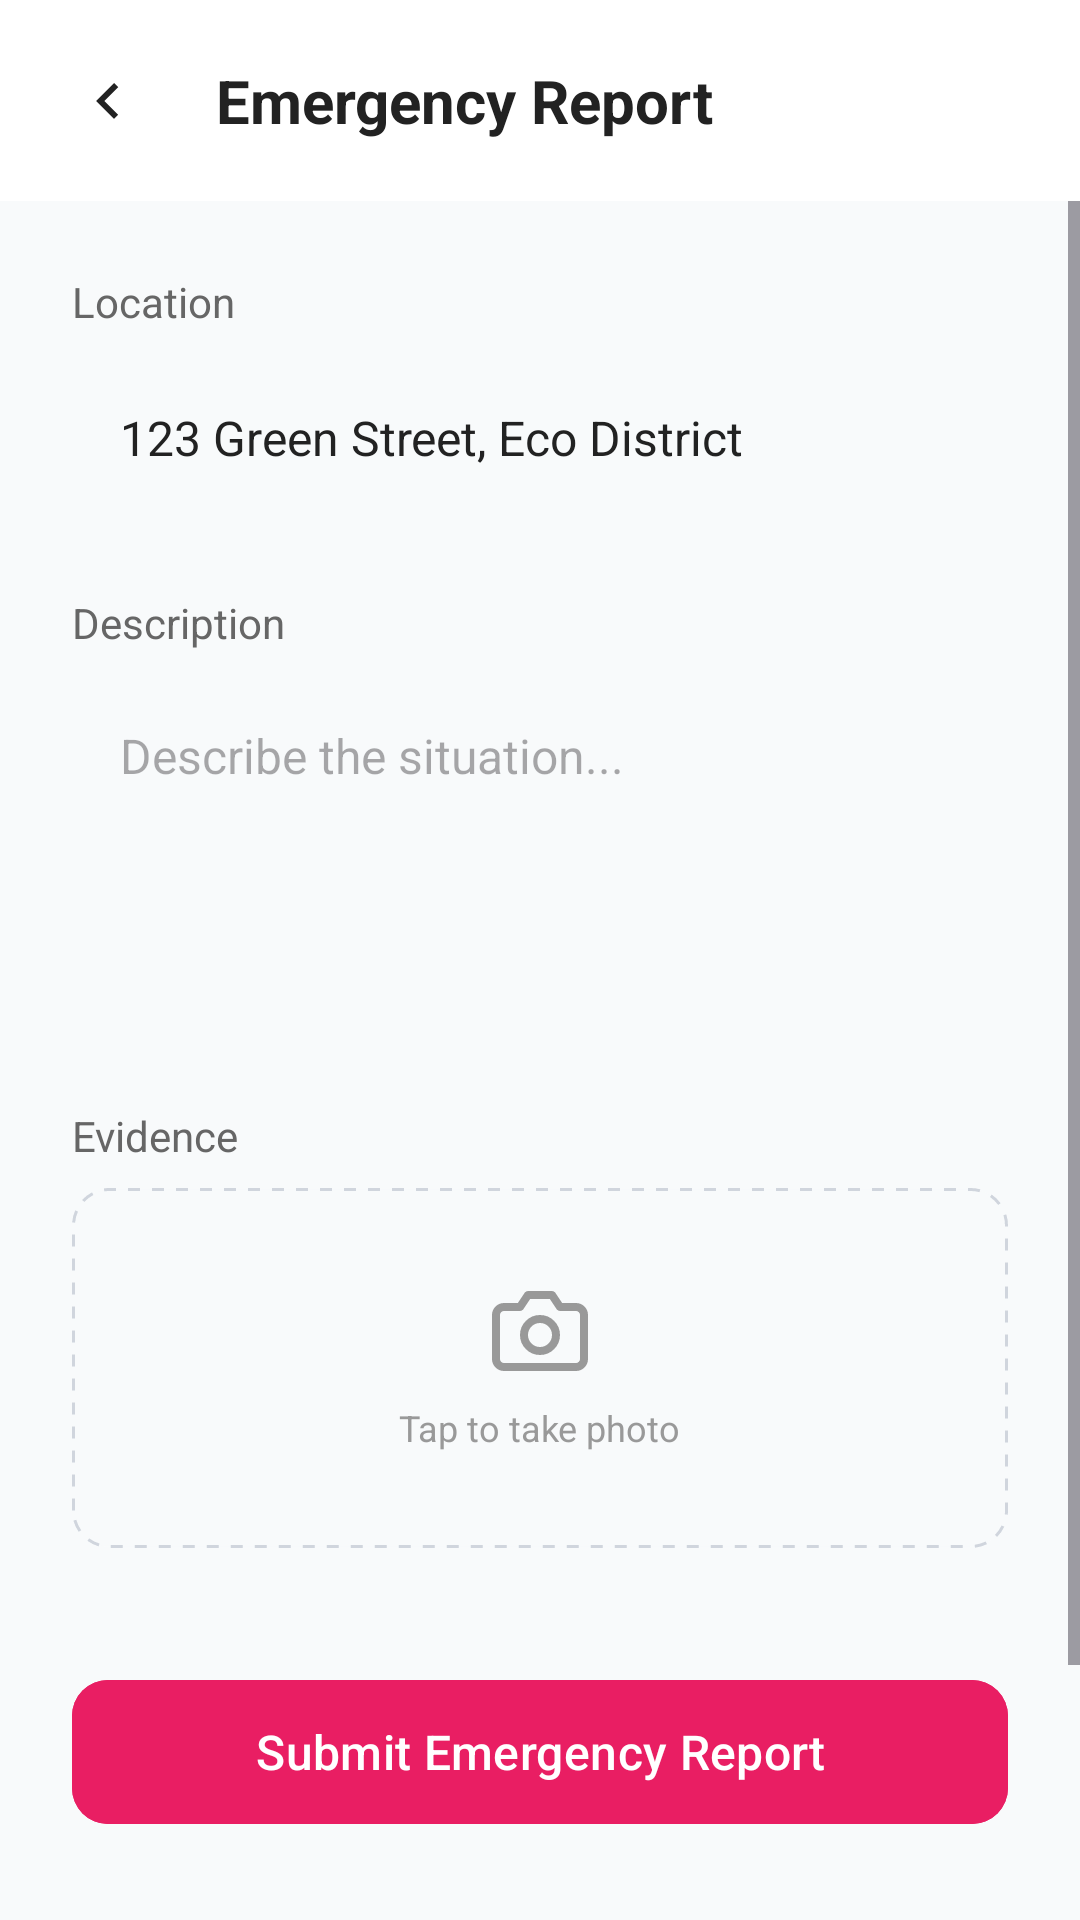

Point at icon controls on the screen. Image size 1080px x 1920px, points as (x,y).
Back: (107,101)
camera: (540,1331)
